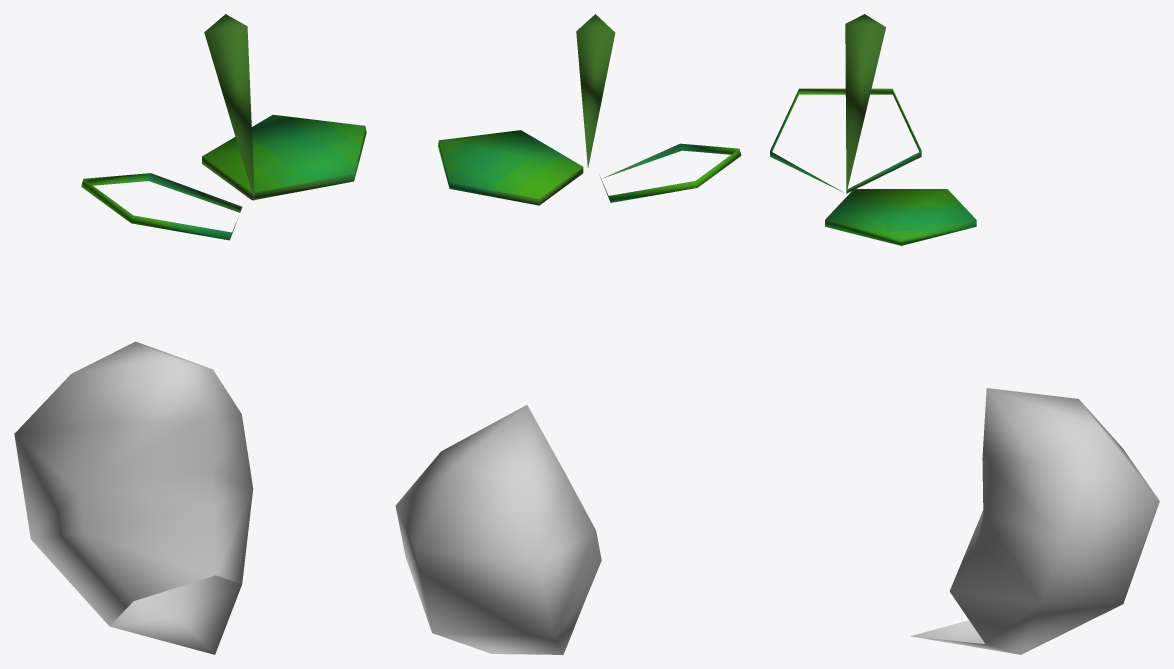
The model's file is fruit4.comp.obj.
3 views of the same model, side by side, from view 1: azimuth 30°, elevation 25°; view 2: azimuth 150°, elevation 25°; view 3: azimuth 270°, elevation 25° (orthographic). The views are drawn at different scales.
Visible parts, largest first — view 1: fruit4.obj, fruit-stem.obj; view 2: fruit4.obj, fruit-stem.obj; view 3: fruit4.obj, fruit-stem.obj.
Part boxes in pixels (left/top/right/bottom): fruit4.obj: left=14, top=341, right=253, bottom=654; fruit-stem.obj: left=81, top=14, right=366, bottom=240; fruit4.obj: left=395, top=405, right=601, bottom=654; fruit-stem.obj: left=438, top=14, right=741, bottom=205; fruit4.obj: left=910, top=388, right=1159, bottom=654; fruit-stem.obj: left=770, top=14, right=976, bottom=245.
Size of the model in its own units: 1.06 by 2.31 by 1.32.
